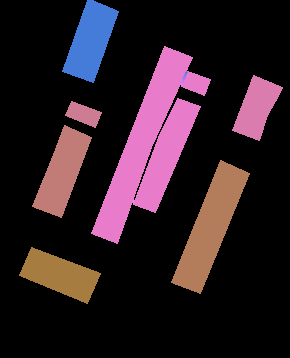parkingspot: (91, 46, 192, 243), (171, 160, 249, 293), (133, 98, 200, 212), (32, 125, 91, 217), (62, 0, 118, 82), (19, 247, 100, 303), (232, 75, 282, 140), (65, 101, 101, 127), (181, 71, 210, 95)
